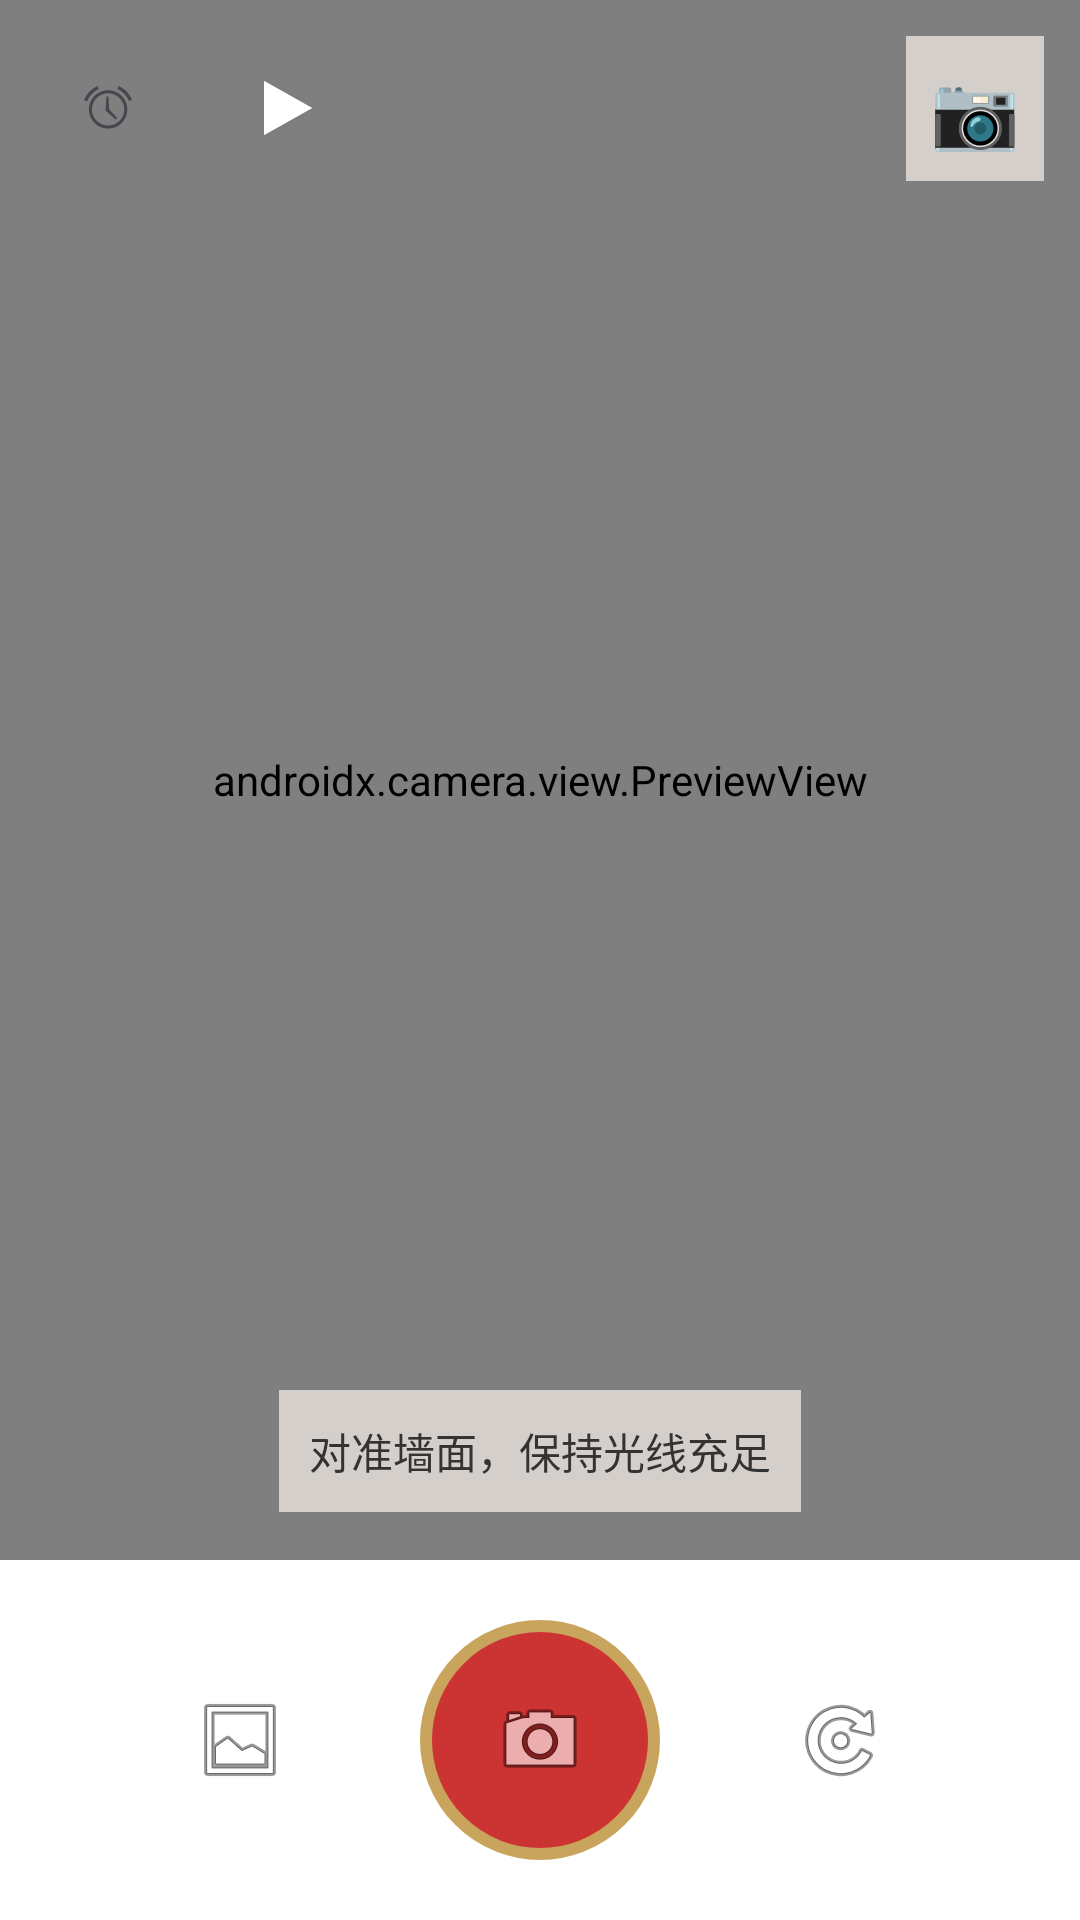

Named icons in this screenshot (1080*1920) and their bounding boxes, (x1, y1, x2, y2):
实时检测: (264, 81, 312, 135)
拍照检测: (420, 1620, 660, 1860)
相册: (204, 1704, 276, 1776)
翻转: (805, 1705, 875, 1776)
